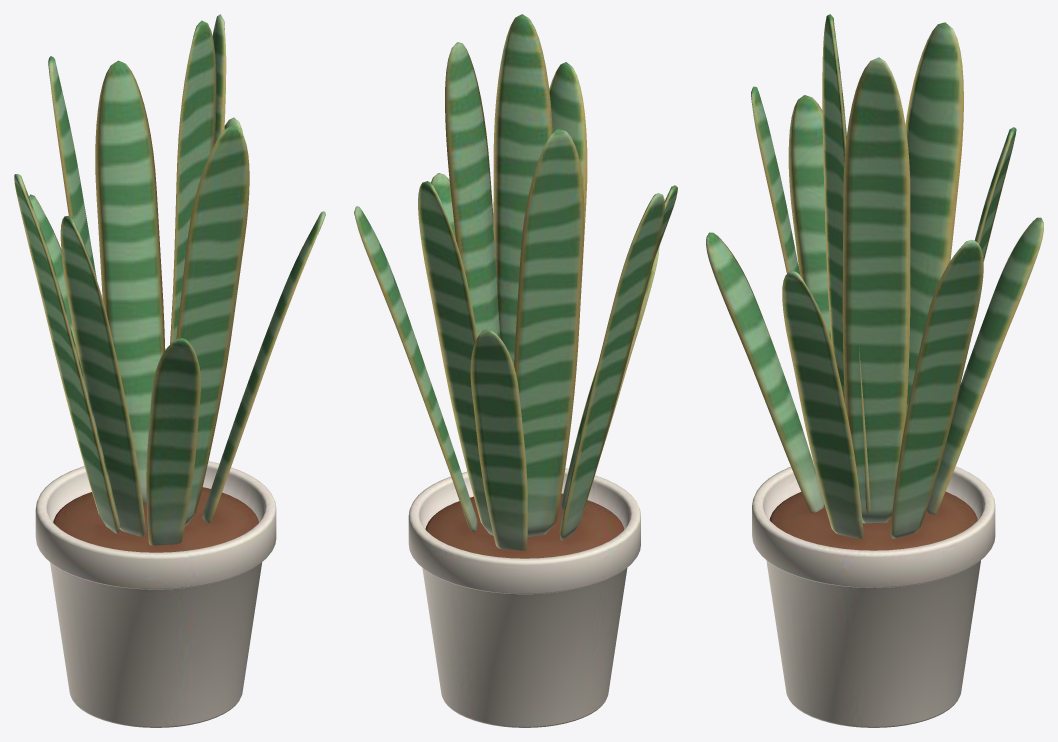
File: snake-plant.glb
3 renders of one model, left to right at view 1: azimuth 30°, elevation 25°; view 2: azimuth 150°, elevation 25°; view 3: azimuth 270°, elevation 25°, orthographic. The views are drawn at different scales.
Parts seen in each view (by area): view 1: snake-plant_body; view 2: snake-plant_body; view 3: snake-plant_body.
Part boxes in pixels (bbox=[...]): snake-plant_body: bbox=[14, 14, 325, 727]; snake-plant_body: bbox=[354, 14, 677, 727]; snake-plant_body: bbox=[706, 14, 1043, 727].
Size of the model in its own units: 0.2828 by 0.6754 by 0.2998.
Materials: 1 (1 with a texture image).
